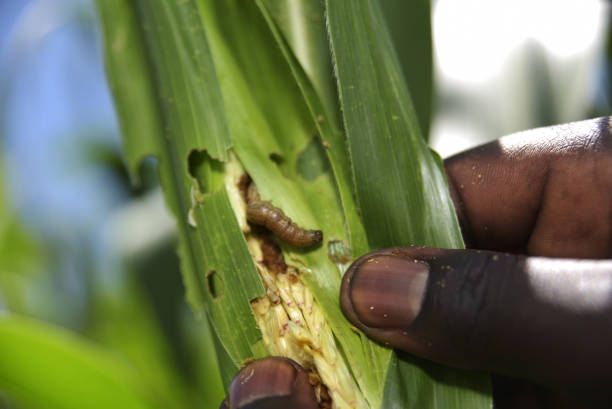Armyworm: (238, 193, 331, 265)
